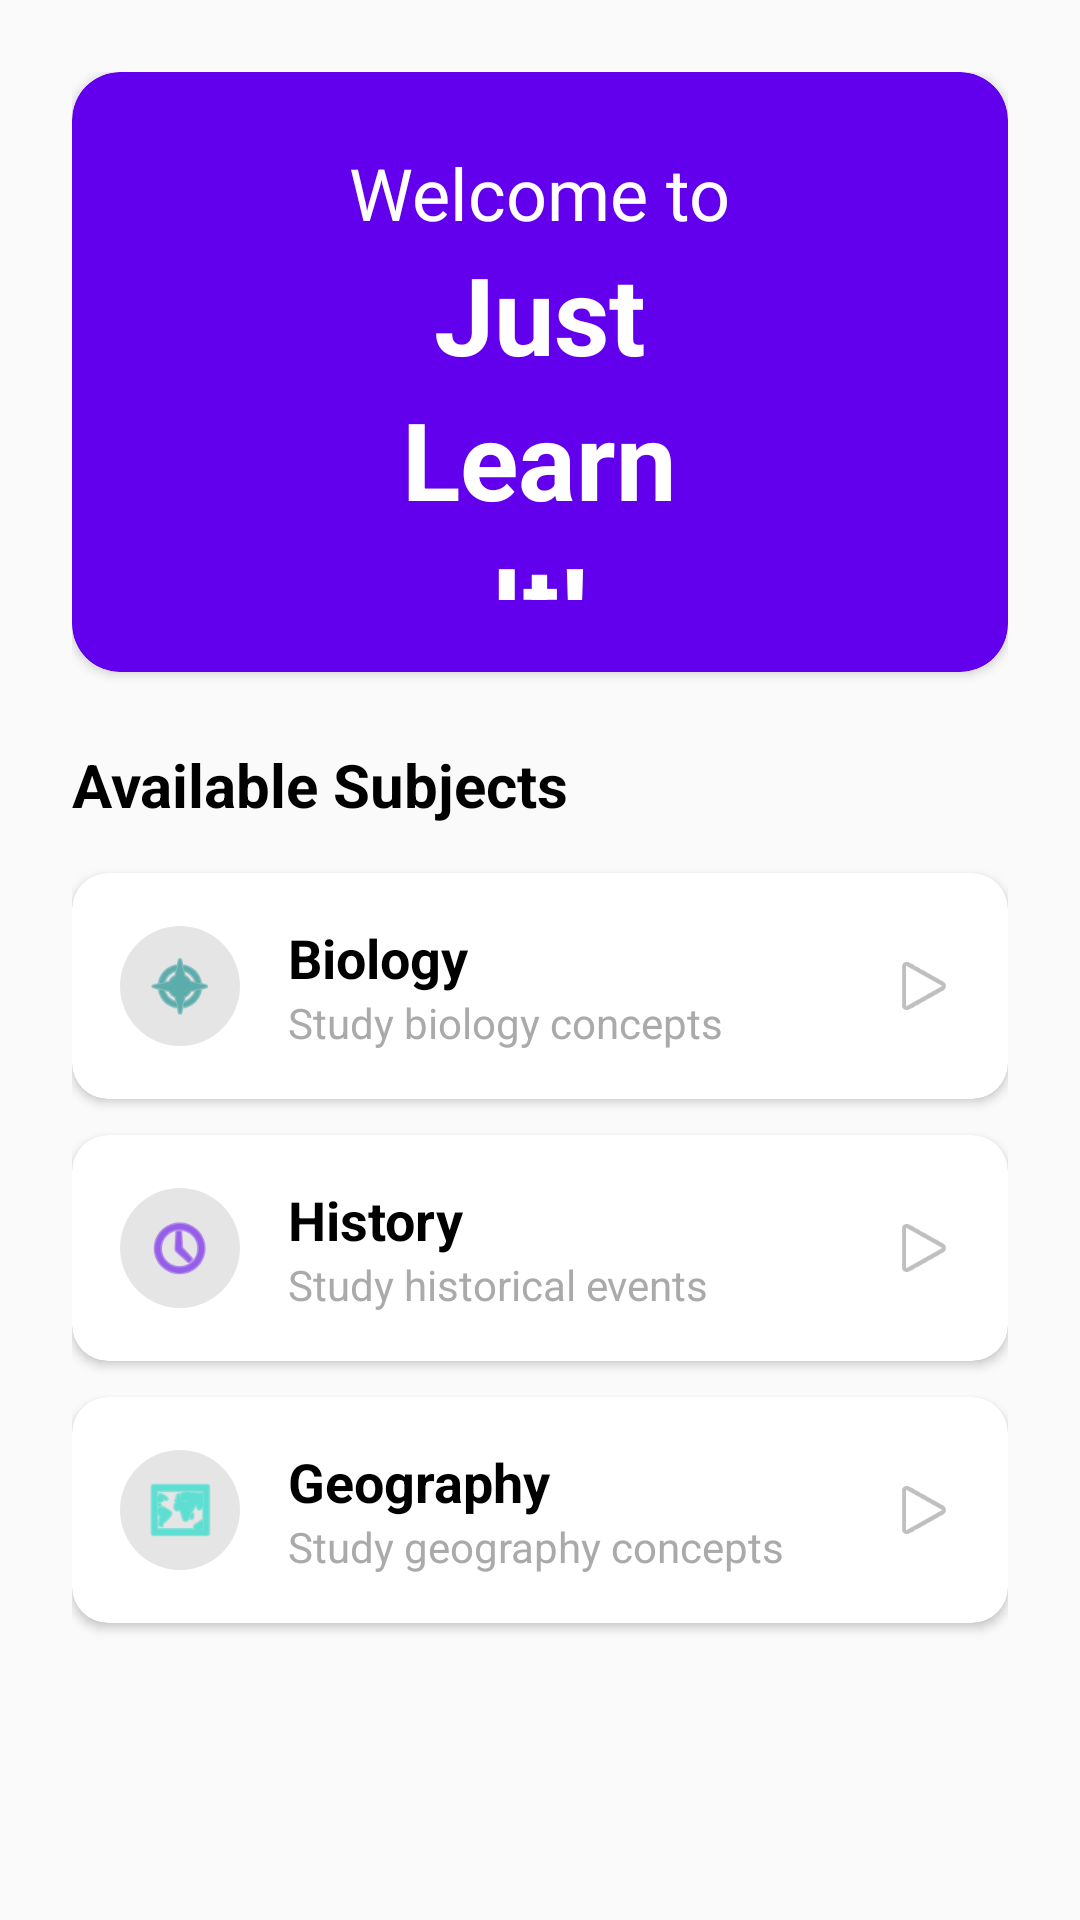

Screen size 1080w x 1920h. Icon name, then its center in pixels as (x,y):
compass: (180,986)
mapmode: (180,1510)
play: (924,986), (924,1248), (924,1510)
